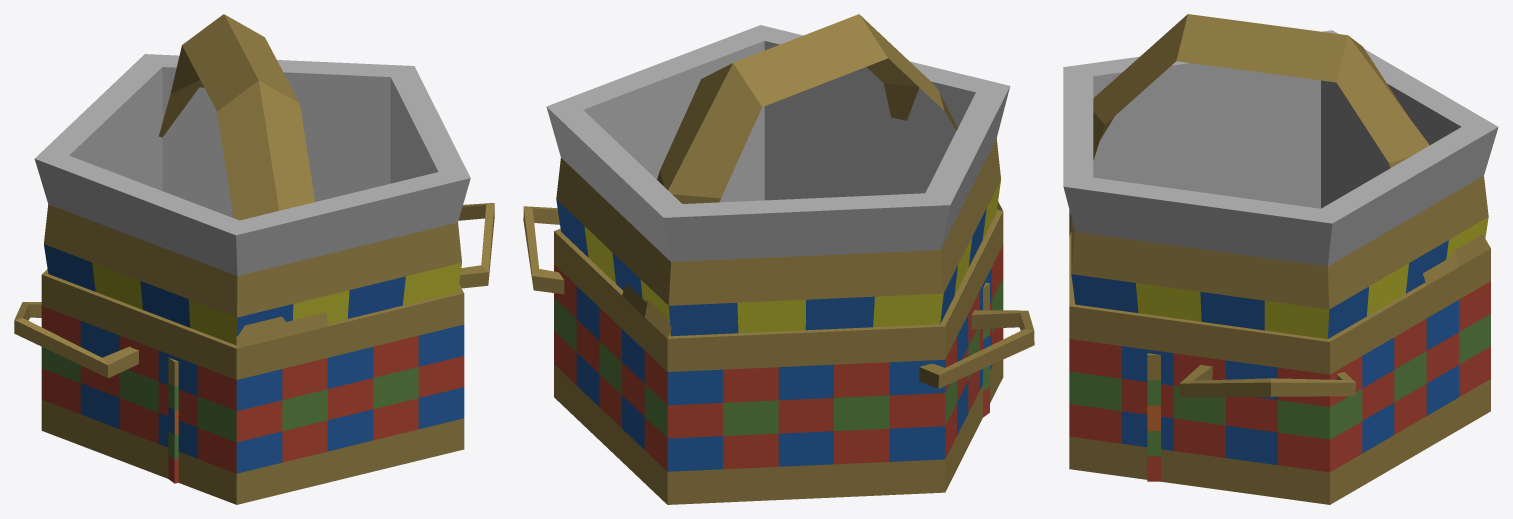
The model's file is cestaObjs.fbx.
3 renders of one model, left to right at view 1: azimuth 30°, elevation 25°; view 2: azimuth 150°, elevation 25°; view 3: azimuth 270°, elevation 25°, orthographic. The views are drawn at different scales.
Parts seen in each view (by area): view 1: cestaEnfeite3, cestaEnfeite1, cestaEnfeite2; view 2: cestaEnfeite3, cestaEnfeite1, cestaEnfeite2; view 3: cestaEnfeite3, cestaEnfeite1, cestaEnfeite2.
Boxes of the visible parts, bbox=[...] form: cestaEnfeite3: bbox=[34, 54, 470, 345]; cestaEnfeite1: bbox=[41, 14, 464, 504]; cestaEnfeite2: bbox=[14, 203, 494, 483]; cestaEnfeite3: bbox=[546, 25, 1010, 336]; cestaEnfeite1: bbox=[554, 14, 1003, 504]; cestaEnfeite2: bbox=[523, 206, 1034, 417]; cestaEnfeite3: bbox=[1063, 30, 1498, 339]; cestaEnfeite1: bbox=[1069, 14, 1490, 504]; cestaEnfeite2: bbox=[1147, 353, 1355, 481].
Bounding box in the file's own units: 248 × 180 × 187.
